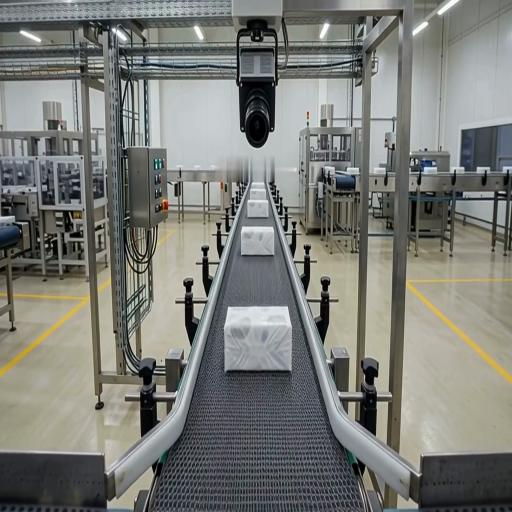good: (224, 305, 292, 372), (240, 226, 275, 257), (247, 199, 269, 219), (250, 188, 266, 200), (250, 182, 265, 188)
